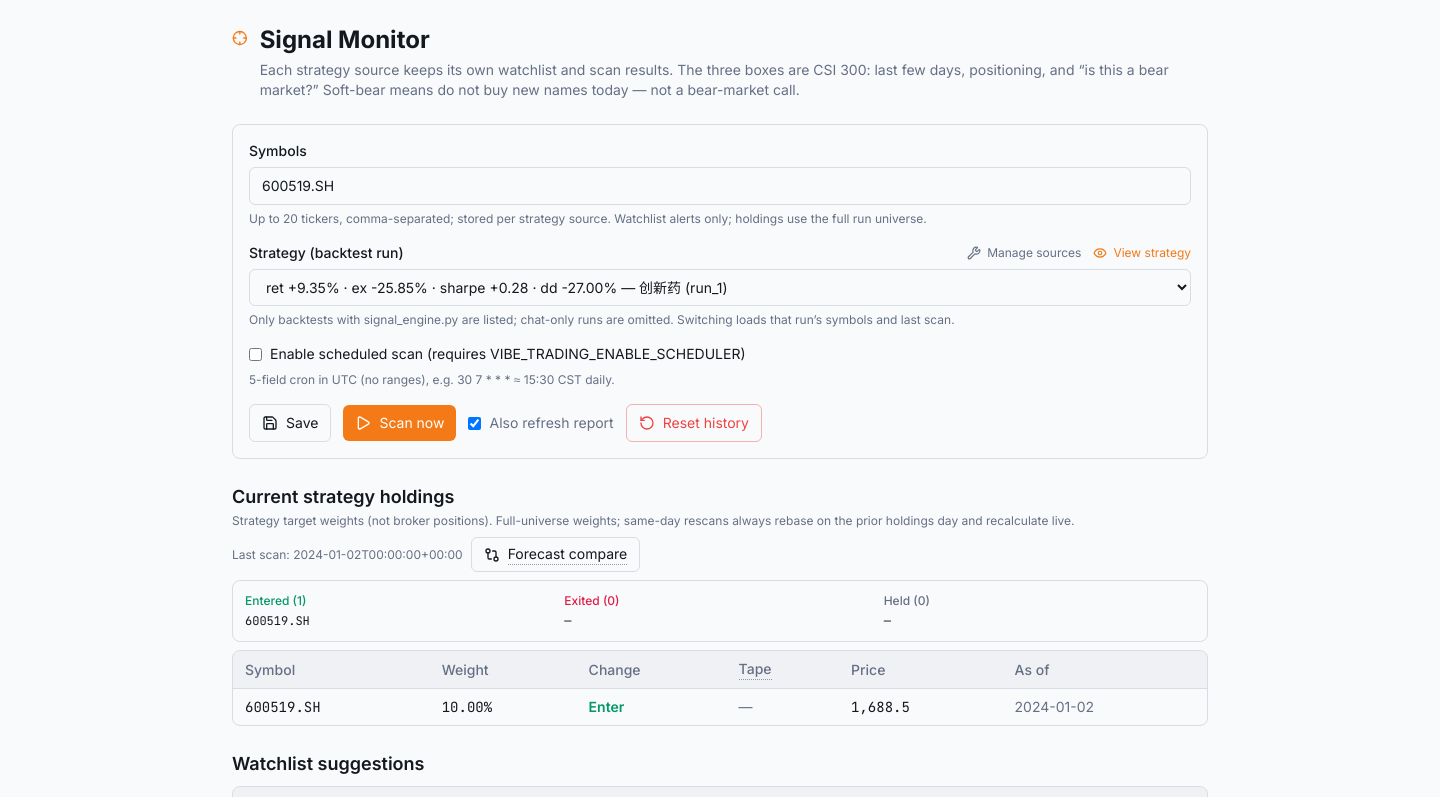
Test case: Monitor page › renames a strategy source title from the maintain modal
Click the button "Manage sources". click: (1024,253)
box: [967,245,1081,261]
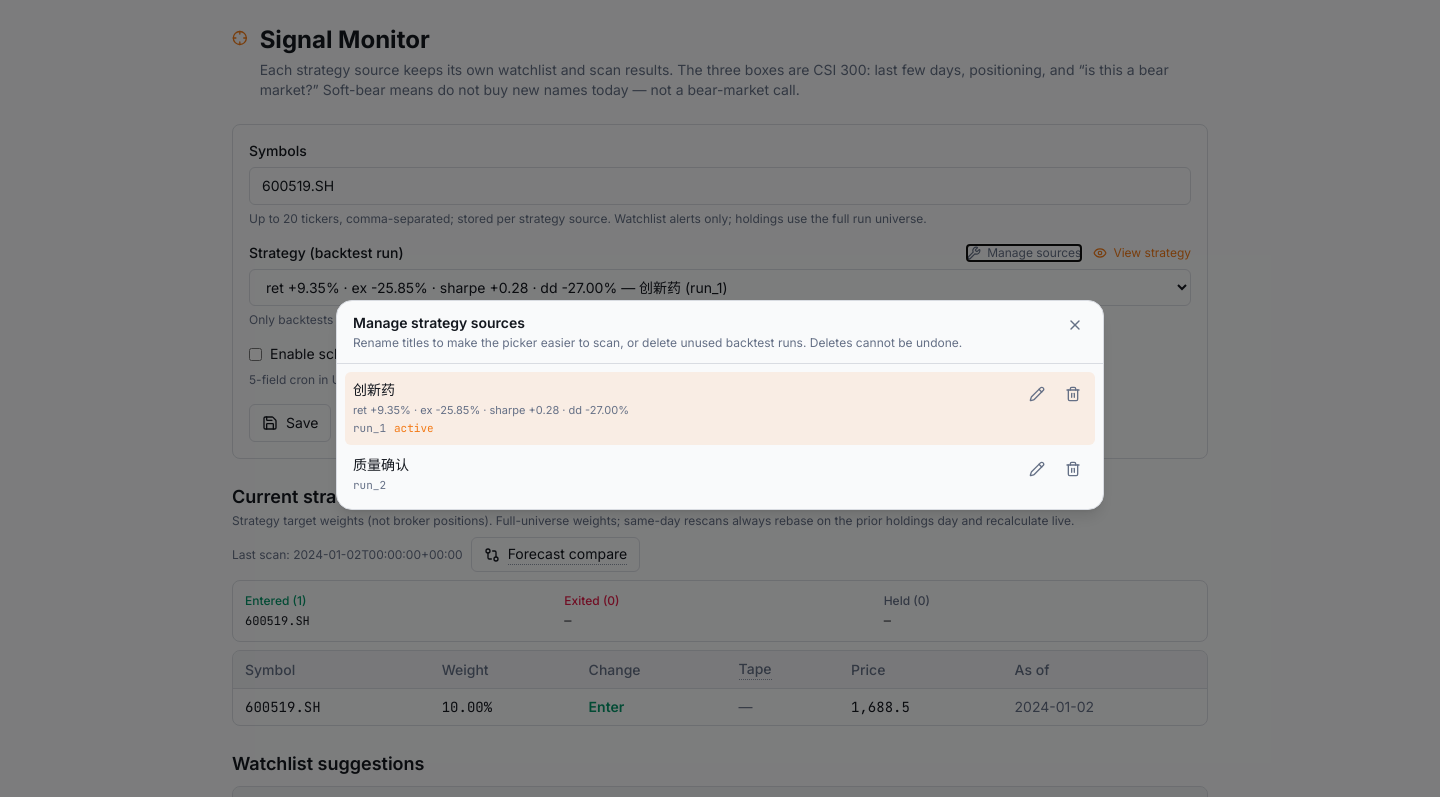
Now the number of buttons titled "rename title" is 2
Click the button titled "rename title" in the row of "质量确认". click: (1037,469)
box: [1023,455,1051,483]
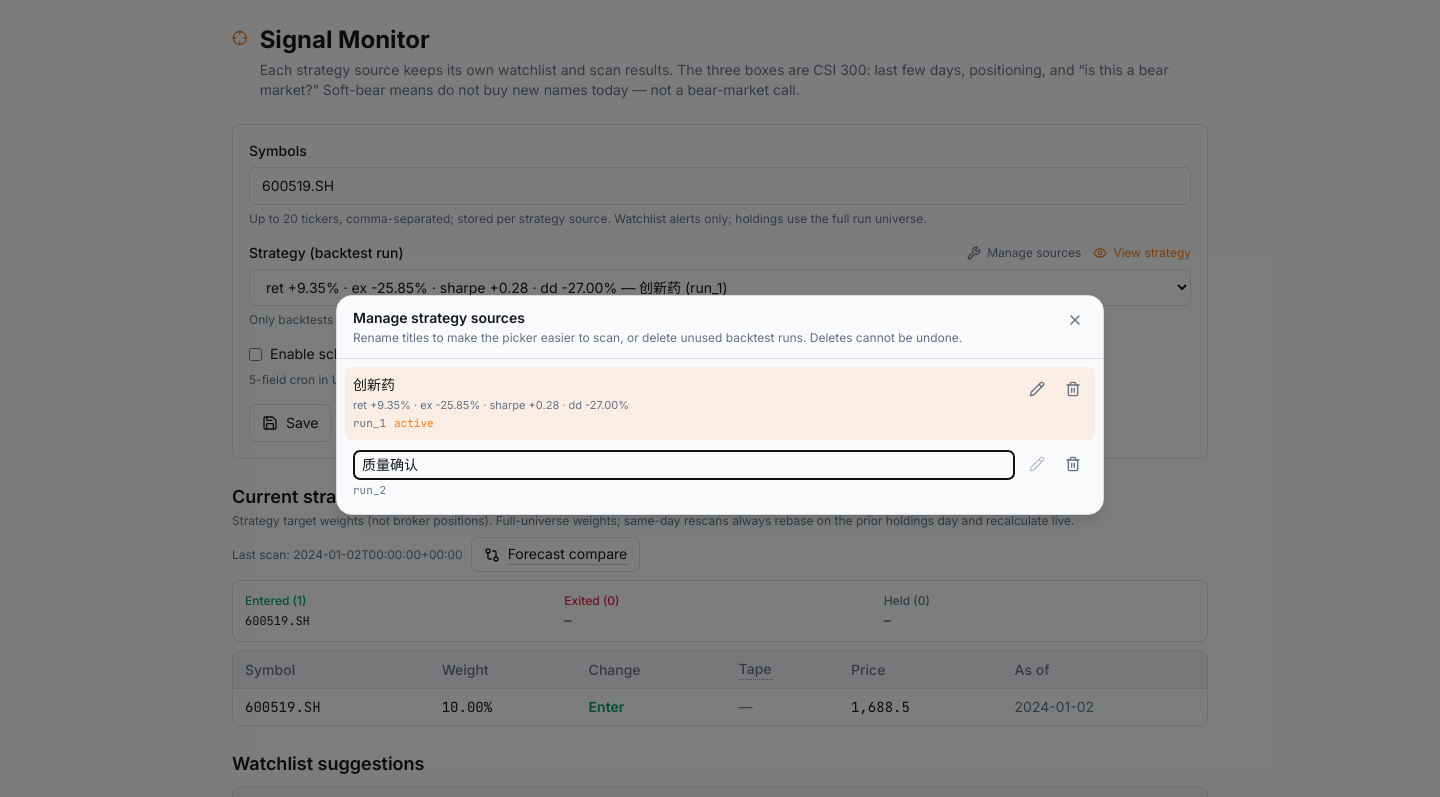
Now the field named "rename title" holds "质量确认"
Replace the text in the field named "rename title" with "工业母机". click: (684,465)
box: [353,450,1015,480]
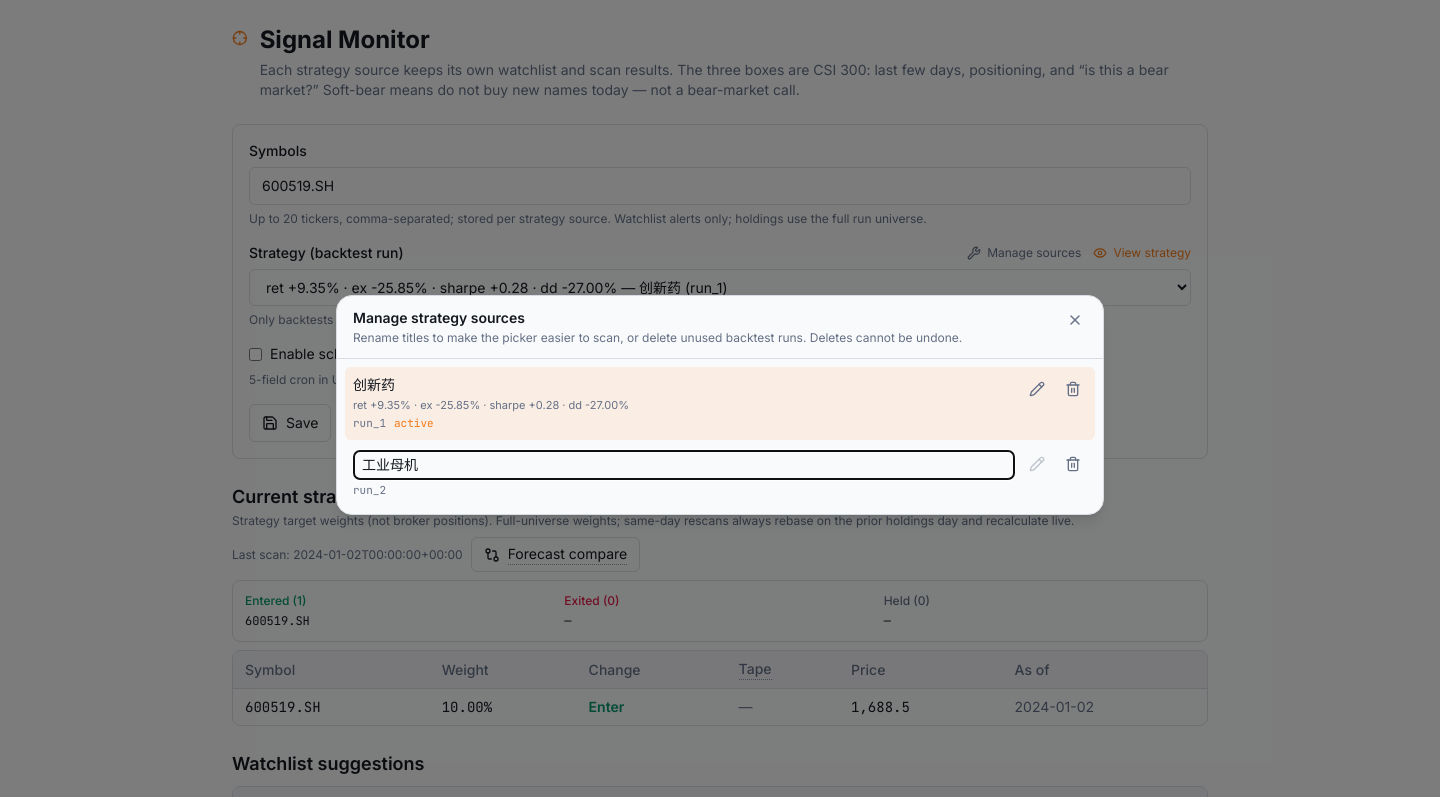
Press Enter
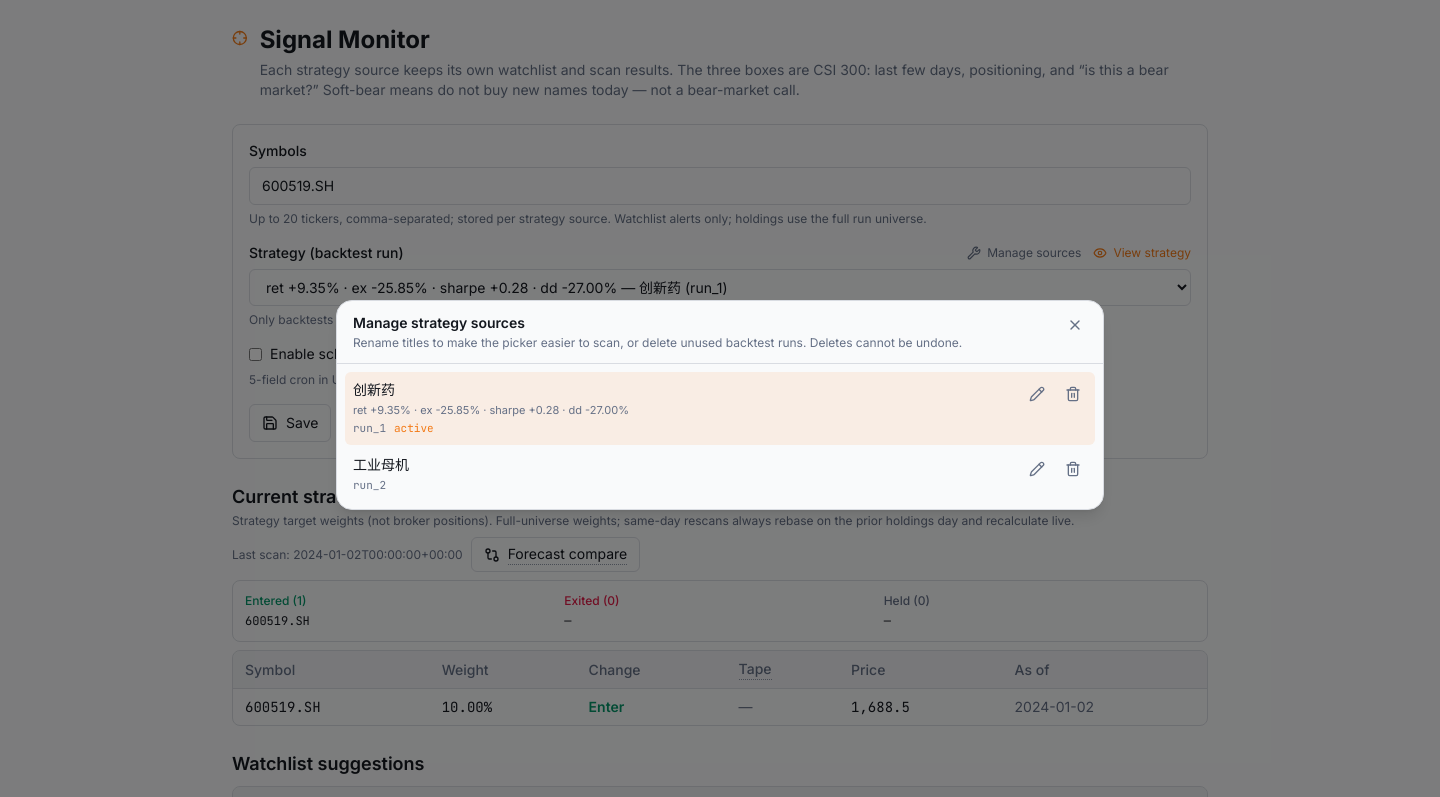
Now the text "工业母机" is shown, box [353,456,409,473]
